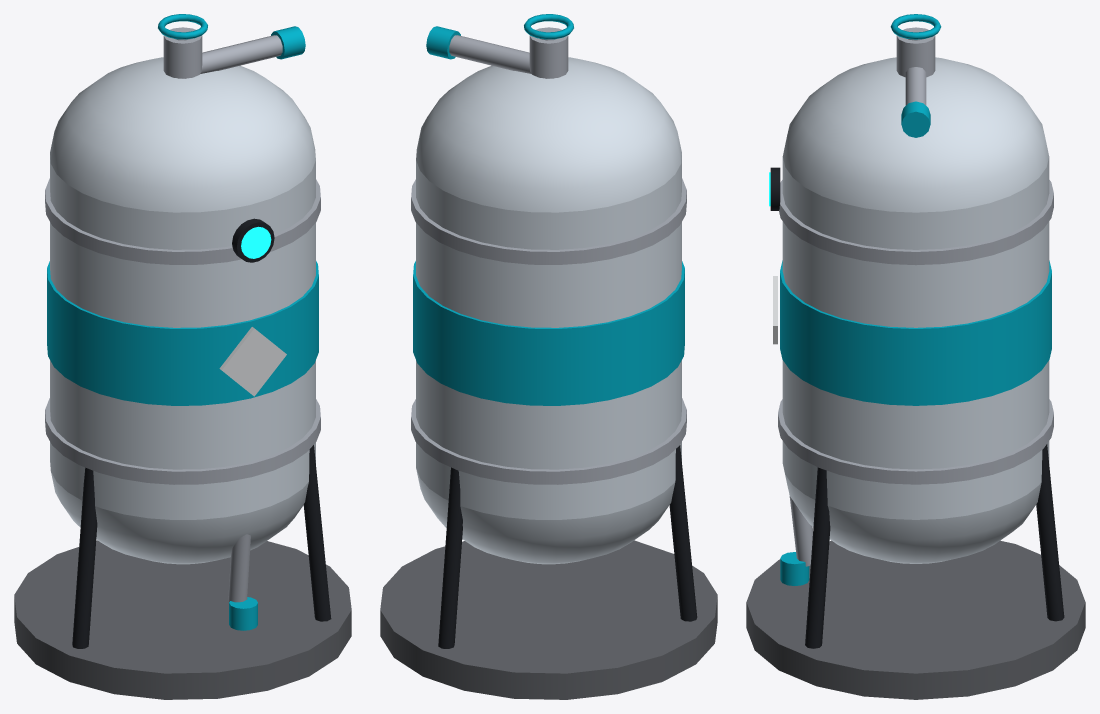
The model's file is tank_water.glb.
3 views of the same model, side by side, from view 1: azimuth 30°, elevation 25°; view 2: azimuth 150°, elevation 25°; view 3: azimuth 270°, elevation 25° (orthographic).
Parts seen in each view (by area): view 1: TNK_Body; view 2: TNK_Body; view 3: TNK_Body.
Boxes of the visible parts, x1,y1,x2,y2 form: TNK_Body: (14,14,351,699); TNK_Body: (380,14,717,699); TNK_Body: (746,14,1085,699).
Bounding box in the file's own units: 1.4 × 2.75 × 1.4.
